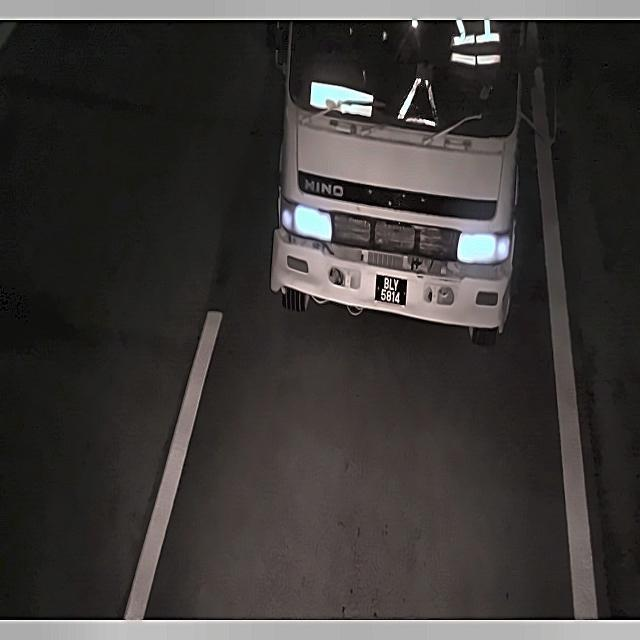car: (372, 269, 411, 315)
